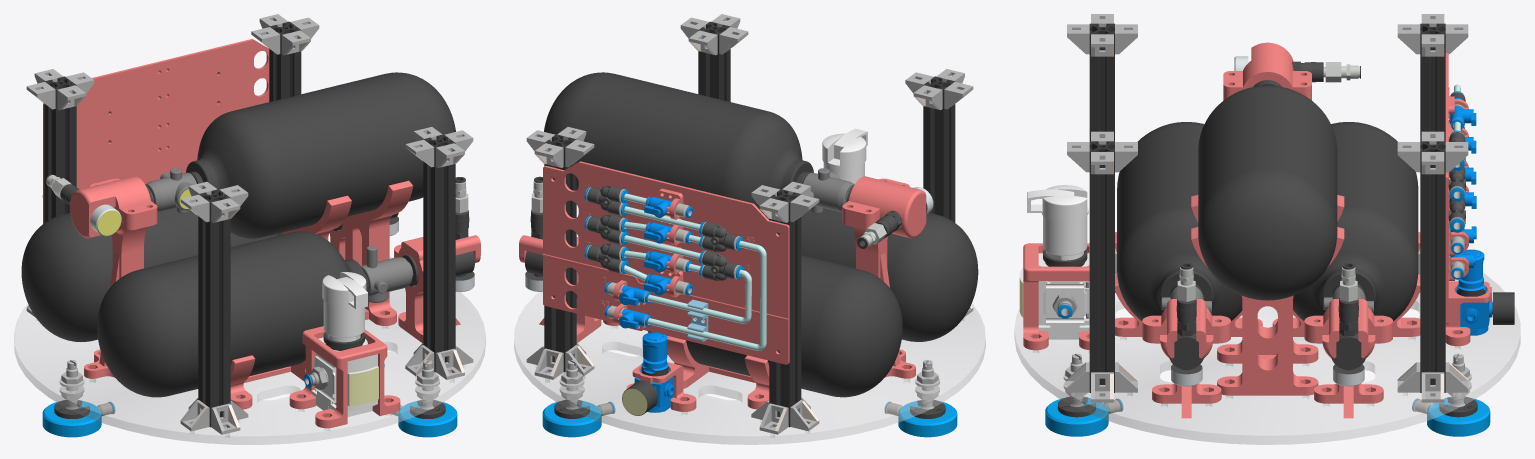
The picture shows the model from 3 angles, left to right: view 1: azimuth 30°, elevation 25°; view 2: azimuth 150°, elevation 25°; view 3: azimuth 270°, elevation 25°; orthographic projection. The views are drawn at different scales.
Parts seen in each view (by area): view 1: 4500psi1_5Lbottle-1 - Part, 4500psi1_5Lbottle-1 3 - Part, alpha3_bottom_plate-1 - Part_clonedChild, alpha3_bottom_plate-1 - Part, pneumatic_base_plate-1 - Part, 4500psi1_5Lbottle-1 2 - Part, RS_850-8476_210mm-1 4 - Part, RS_850-8476_210mm-1 2 - Part, alpha3_bottle_mount_hori_top-1 - Part, 527690 MS4-LR-1_4-D7-AS-1 - Part, alpha3_regulator_actuator_mounting-1 - Part, RS_850-8476_210mm-1 3 - Part (+25 smaller); view 2: pneumatic_base_plate-1 - Part, alpha3_bottom_plate-1 - Part_clonedChild, alpha3_bottom_plate-1 - Part, 4500psi1_5Lbottle-1 - Part, 4500psi1_5Lbottle-1 2 - Part, 4500psi1_5Lbottle-1 3 - Part, RS_850-8476_210mm-1 4 - Part, RS_850-8476_210mm-1 3 - Part, alpha3_bottle_conncet_top_mid-1 - Part, RS_850-8476_210mm-1 - Part, alpha3_bottle_conncet_bot_mid-1 - Part, alpha3_bottle_mount_hori-2 - Part (+40 smaller); view 3: 4500psi1_5Lbottle-1 - Part, alpha3_bottom_plate-1 - Part_clonedChild, alpha3_bottom_plate-1 - Part, 4500psi1_5Lbottle-1 2 - Part, 4500psi1_5Lbottle-1 3 - Part, alpha3_bottle_mount_hori_top-1 - Part, 527690 MS4-LR-1_4-D7-AS-1 - Part, RS_850-8476_210mm-1 - Part, RS_850-8476_210mm-1 2 - Part, alpha3_regulator_actuator_mounting-1 - Part, alpha3_bottle_conncet_top_mid-1 - Part, RS_850-8476_210mm-1 3 - Part (+33 smaller).
Part boxes in pixels (x1,y1,x2,y2): 4500psi1_5Lbottle-1 - Part: (186,72,455,238); 4500psi1_5Lbottle-1 3 - Part: (97,231,368,397); alpha3_bottom_plate-1 - Part_clonedChild: (14,257,485,444); alpha3_bottom_plate-1 - Part: (14,257,485,444); pneumatic_base_plate-1 - Part: (42,39,269,223); 4500psi1_5Lbottle-1 2 - Part: (21,208,283,341); RS_850-8476_210mm-1 4 - Part: (198,189,230,427); RS_850-8476_210mm-1 2 - Part: (423,134,455,372); alpha3_bottle_mount_hori_top-1 - Part: (284,180,413,325); 527690 MS4-LR-1_4-D7-AS-1 - Part: (311,272,378,416); alpha3_regulator_actuator_mounting-1 - Part: (289,326,400,428); RS_850-8476_210mm-1 3 - Part: (44,76,76,222); pneumatic_base_plate-1 - Part: (542,161,789,364); alpha3_bottom_plate-1 - Part_clonedChild: (514,292,985,444); alpha3_bottom_plate-1 - Part: (514,292,985,444); 4500psi1_5Lbottle-1 - Part: (544,72,813,219); 4500psi1_5Lbottle-1 2 - Part: (647,255,902,397); 4500psi1_5Lbottle-1 3 - Part: (801,208,978,341); RS_850-8476_210mm-1 4 - Part: (923,76,955,222); RS_850-8476_210mm-1 3 - Part: (769,189,801,427); alpha3_bottle_conncet_top_mid-1 - Part: (842,176,926,223); RS_850-8476_210mm-1 - Part: (544,134,576,372); alpha3_bottle_conncet_bot_mid-1 - Part: (842,209,926,378); alpha3_bottle_mount_hori-2 - Part: (667,336,769,409); 4500psi1_5Lbottle-1 - Part: (1198,85,1337,300); alpha3_bottom_plate-1 - Part_clonedChild: (1014,273,1520,444); alpha3_bottom_plate-1 - Part: (1015,273,1519,444); 4500psi1_5Lbottle-1 2 - Part: (1293,122,1418,321); 4500psi1_5Lbottle-1 3 - Part: (1117,122,1242,321); alpha3_bottle_mount_hori_top-1 - Part: (1191,195,1344,395); 527690 MS4-LR-1_4-D7-AS-1 - Part: (1019,185,1089,339); RS_850-8476_210mm-1 - Part: (1420,141,1445,392); RS_850-8476_210mm-1 2 - Part: (1089,141,1114,392); alpha3_regulator_actuator_mounting-1 - Part: (1023,243,1089,350); alpha3_bottle_conncet_top_mid-1 - Part: (1223,42,1311,95); RS_850-8476_210mm-1 3 - Part: (1420,23,1445,141).
Size of the model in its own units: 0.3998 by 0.2526 by 0.3997.
